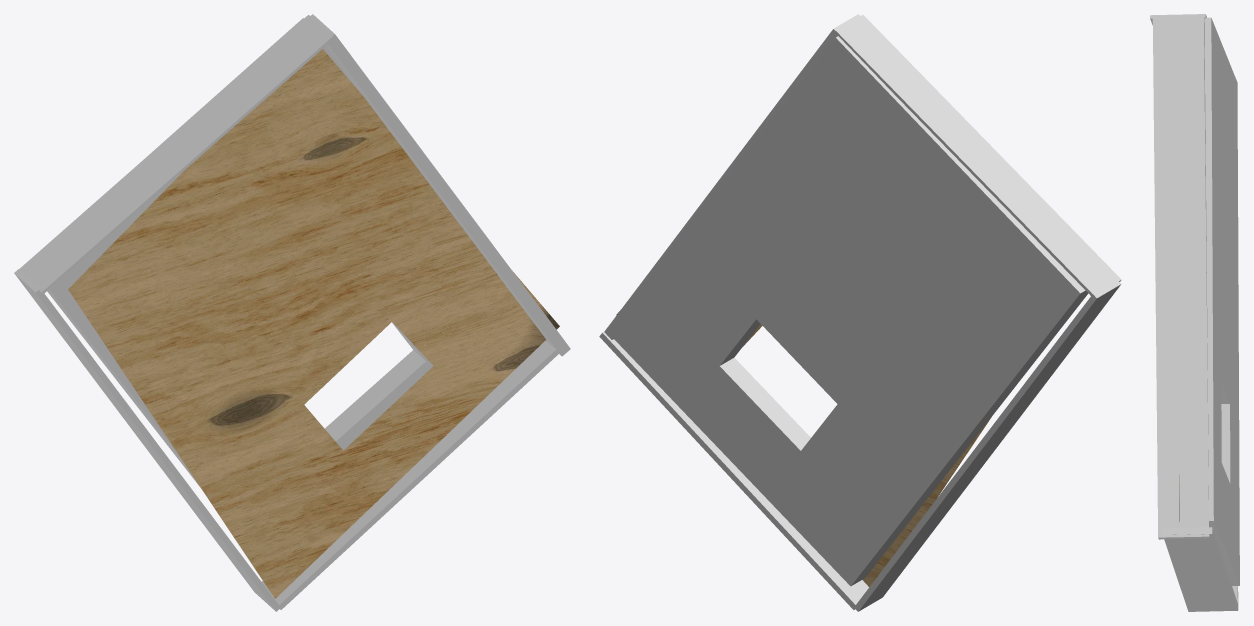
Rendered from 3rd_floor_base.glb.
The picture shows the model from 3 angles, left to right: view 1: azimuth 30°, elevation 25°; view 2: azimuth 150°, elevation 25°; view 3: azimuth 270°, elevation 25°; orthographic projection. The views are drawn at different scales.
Parts seen in each view (by area): view 1: Geom3D.024, Cube.011; view 2: Cube.011, Geom3D.024; view 3: Cube.011.
Boxes of the visible parts, <box> form: Geom3D.024: <box>68,49,559,598</box>; Cube.011: <box>14,14,570,611</box>; Cube.011: <box>599,14,1121,611</box>; Geom3D.024: <box>616,311,990,586</box>; Cube.011: <box>1150,14,1239,611</box>.
Size of the model in its own units: 0.7842 by 0.8293 by 0.1095.
1 material, 1 textured.
